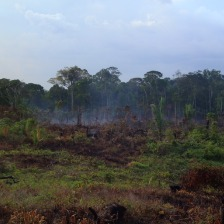incendio: (44, 81, 156, 131)
